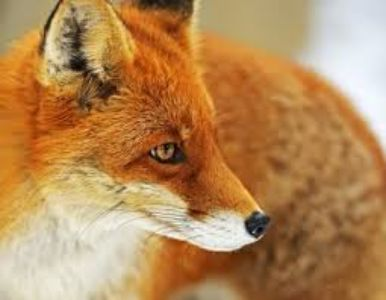fox: (31, 6, 381, 296)
